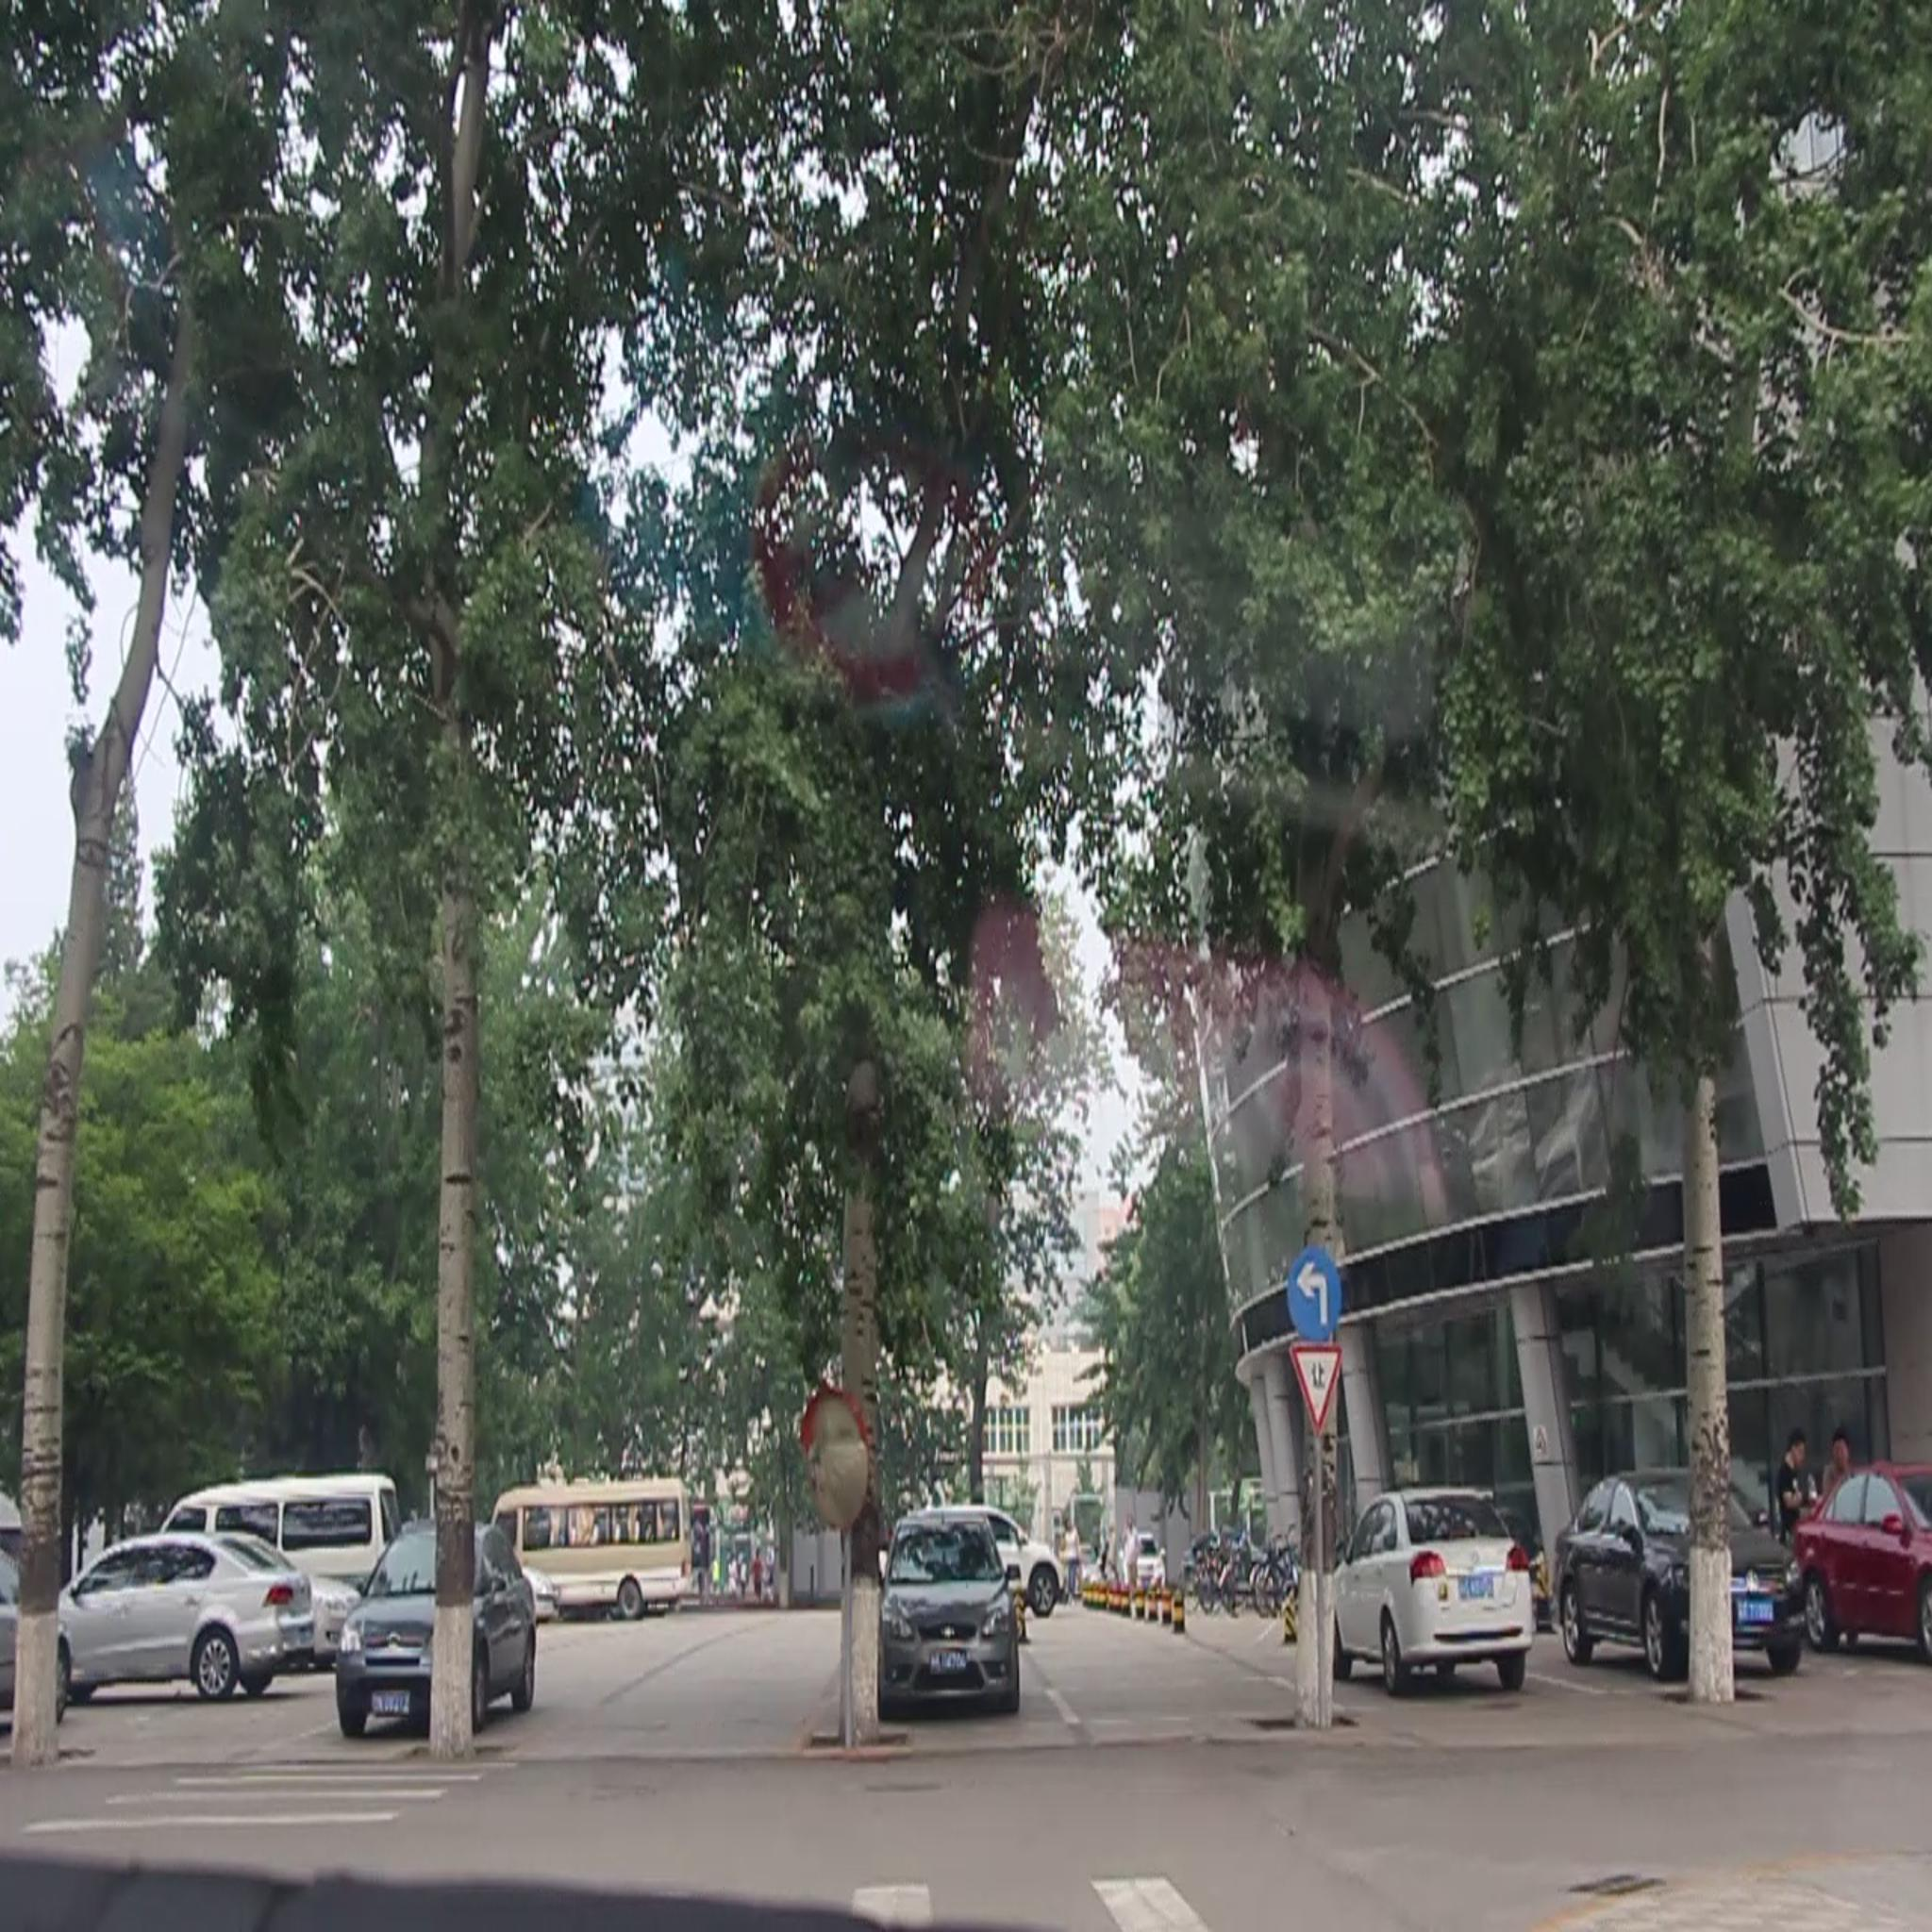i12: (1283, 1246, 1343, 1341)
pg: (1284, 1353, 1355, 1431)
